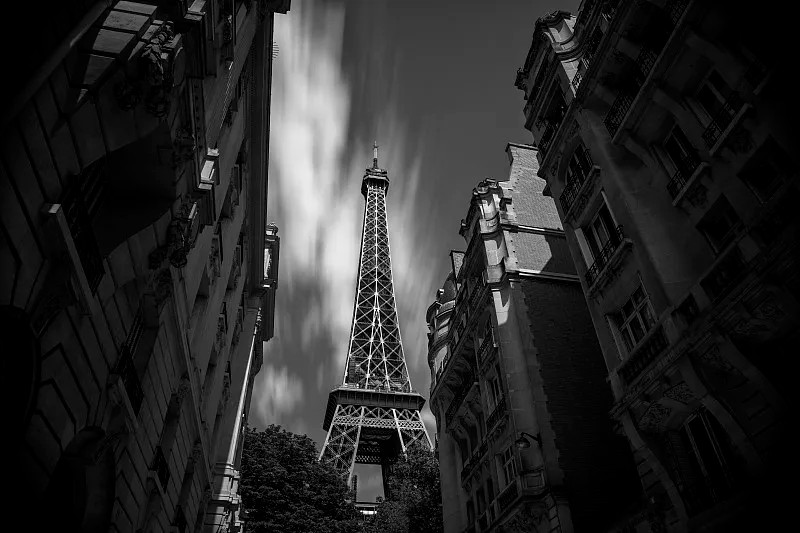Eiffel: (318, 140, 434, 516)
